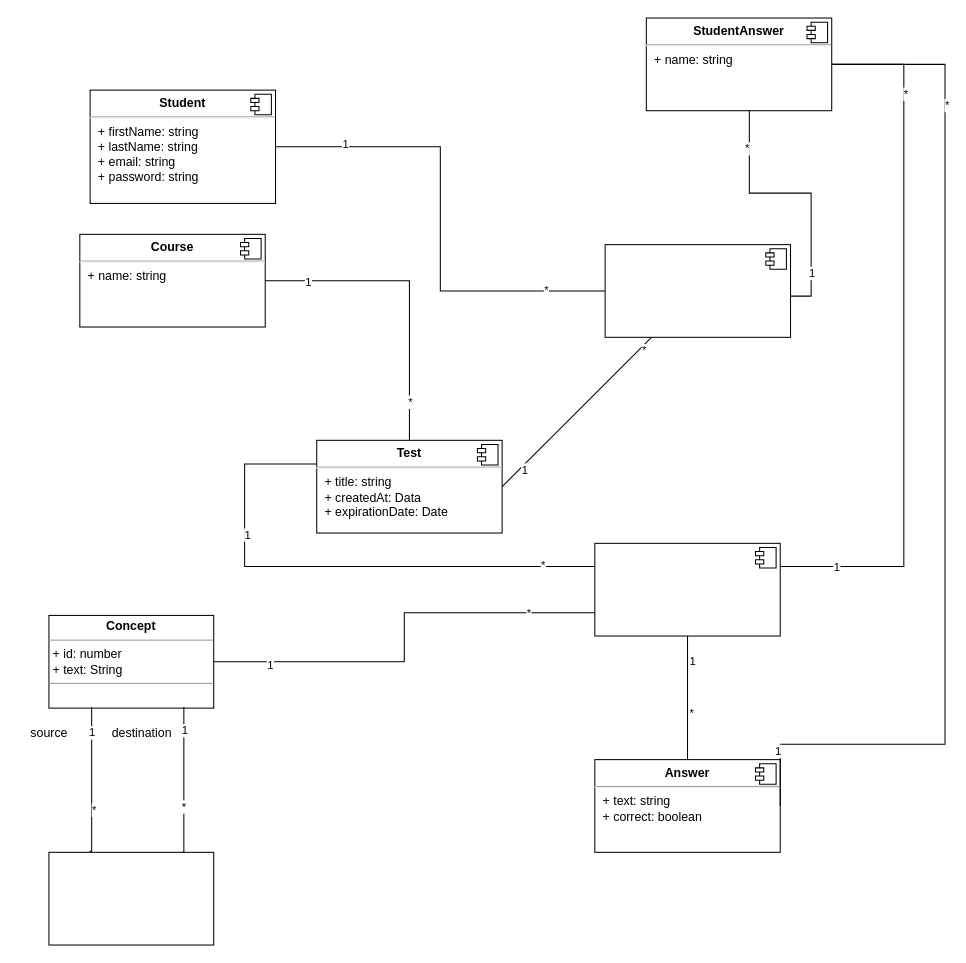
Some shapes in this 966 by 963 pixel diagram are drawn without their labels. The shapes that lost their labels are listed below. From the top down, each one's centre as x and y in pixels, then its label:
(x=697, y=290): StudentTest + name: string + startDate: Date + endDate: Date
(x=687, y=589): Question + text: string
(x=131, y=898): Relation + text: String
